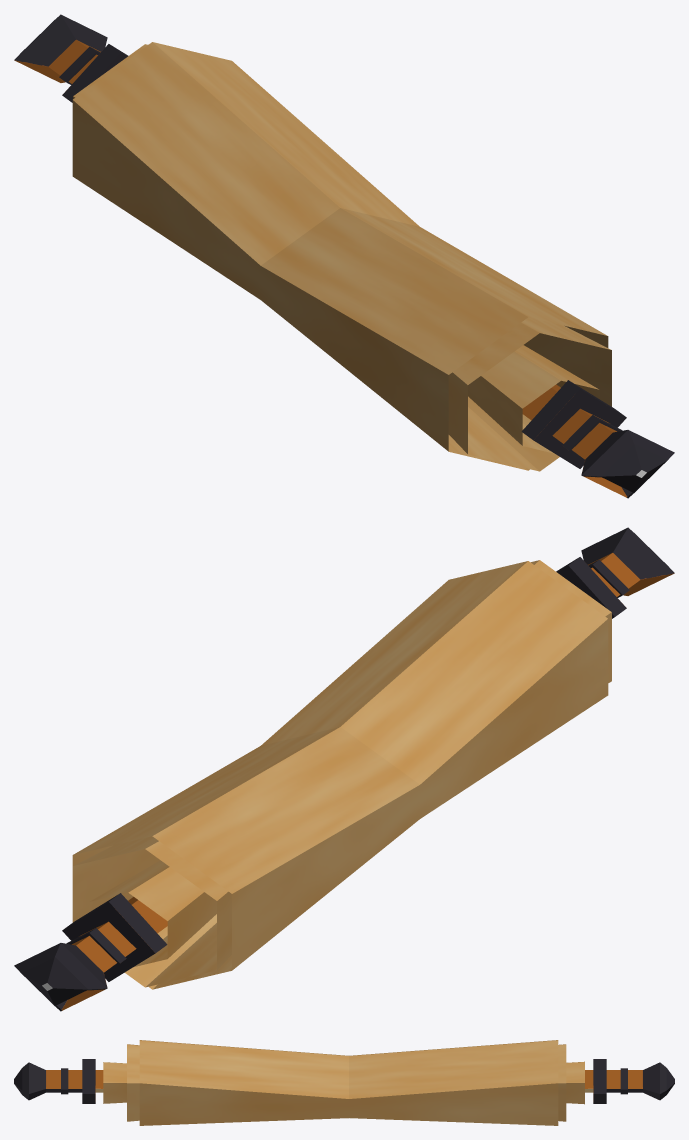
Rendered from pergaminho.fbx.
The picture shows the model from 3 angles, top to bottom: view 1: azimuth 30°, elevation 25°; view 2: azimuth 150°, elevation 25°; view 3: azimuth 270°, elevation 25°; orthographic projection. The views are drawn at different scales.
Parts seen in each view (by area): view 1: pergaminho; view 2: pergaminho; view 3: pergaminho.
Part boxes in pixels (x1,y1,x2,y2): pergaminho: (14,14,674,498); pergaminho: (14,527,674,1011); pergaminho: (14,1040,674,1125).
Size of the model in its own units: 87.06 by 80.09 by 562.
